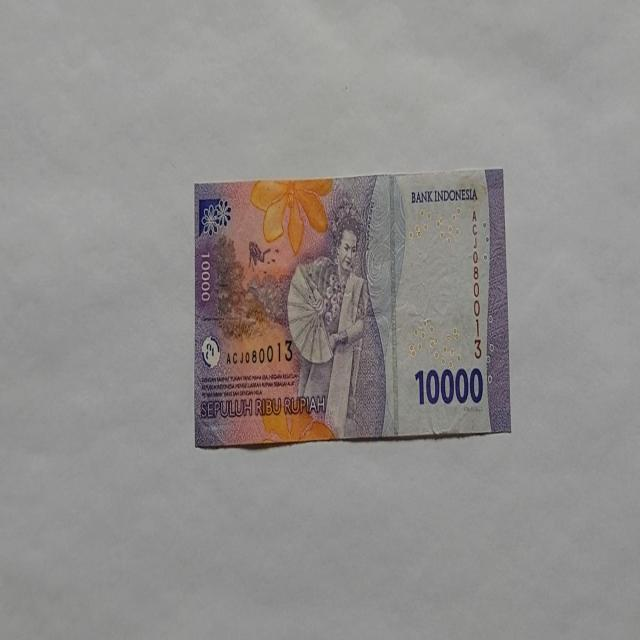sepuluh ribu rupiah: (193, 167, 511, 449)
